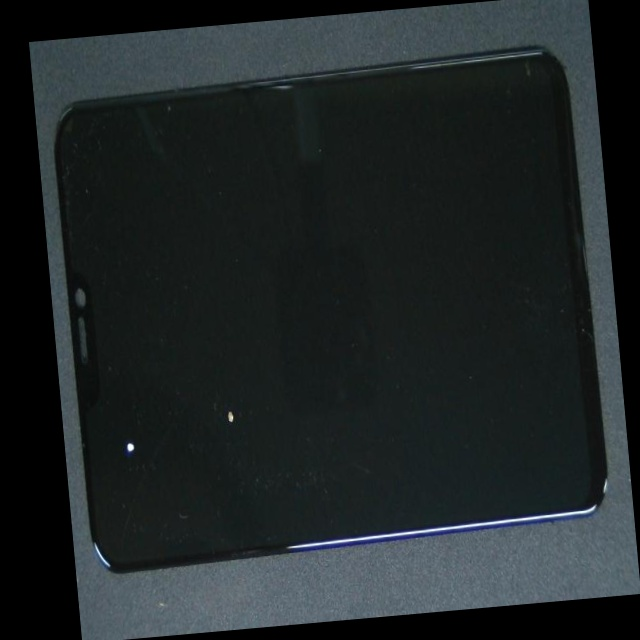stain: (143, 203, 326, 589), (96, 198, 190, 603)
